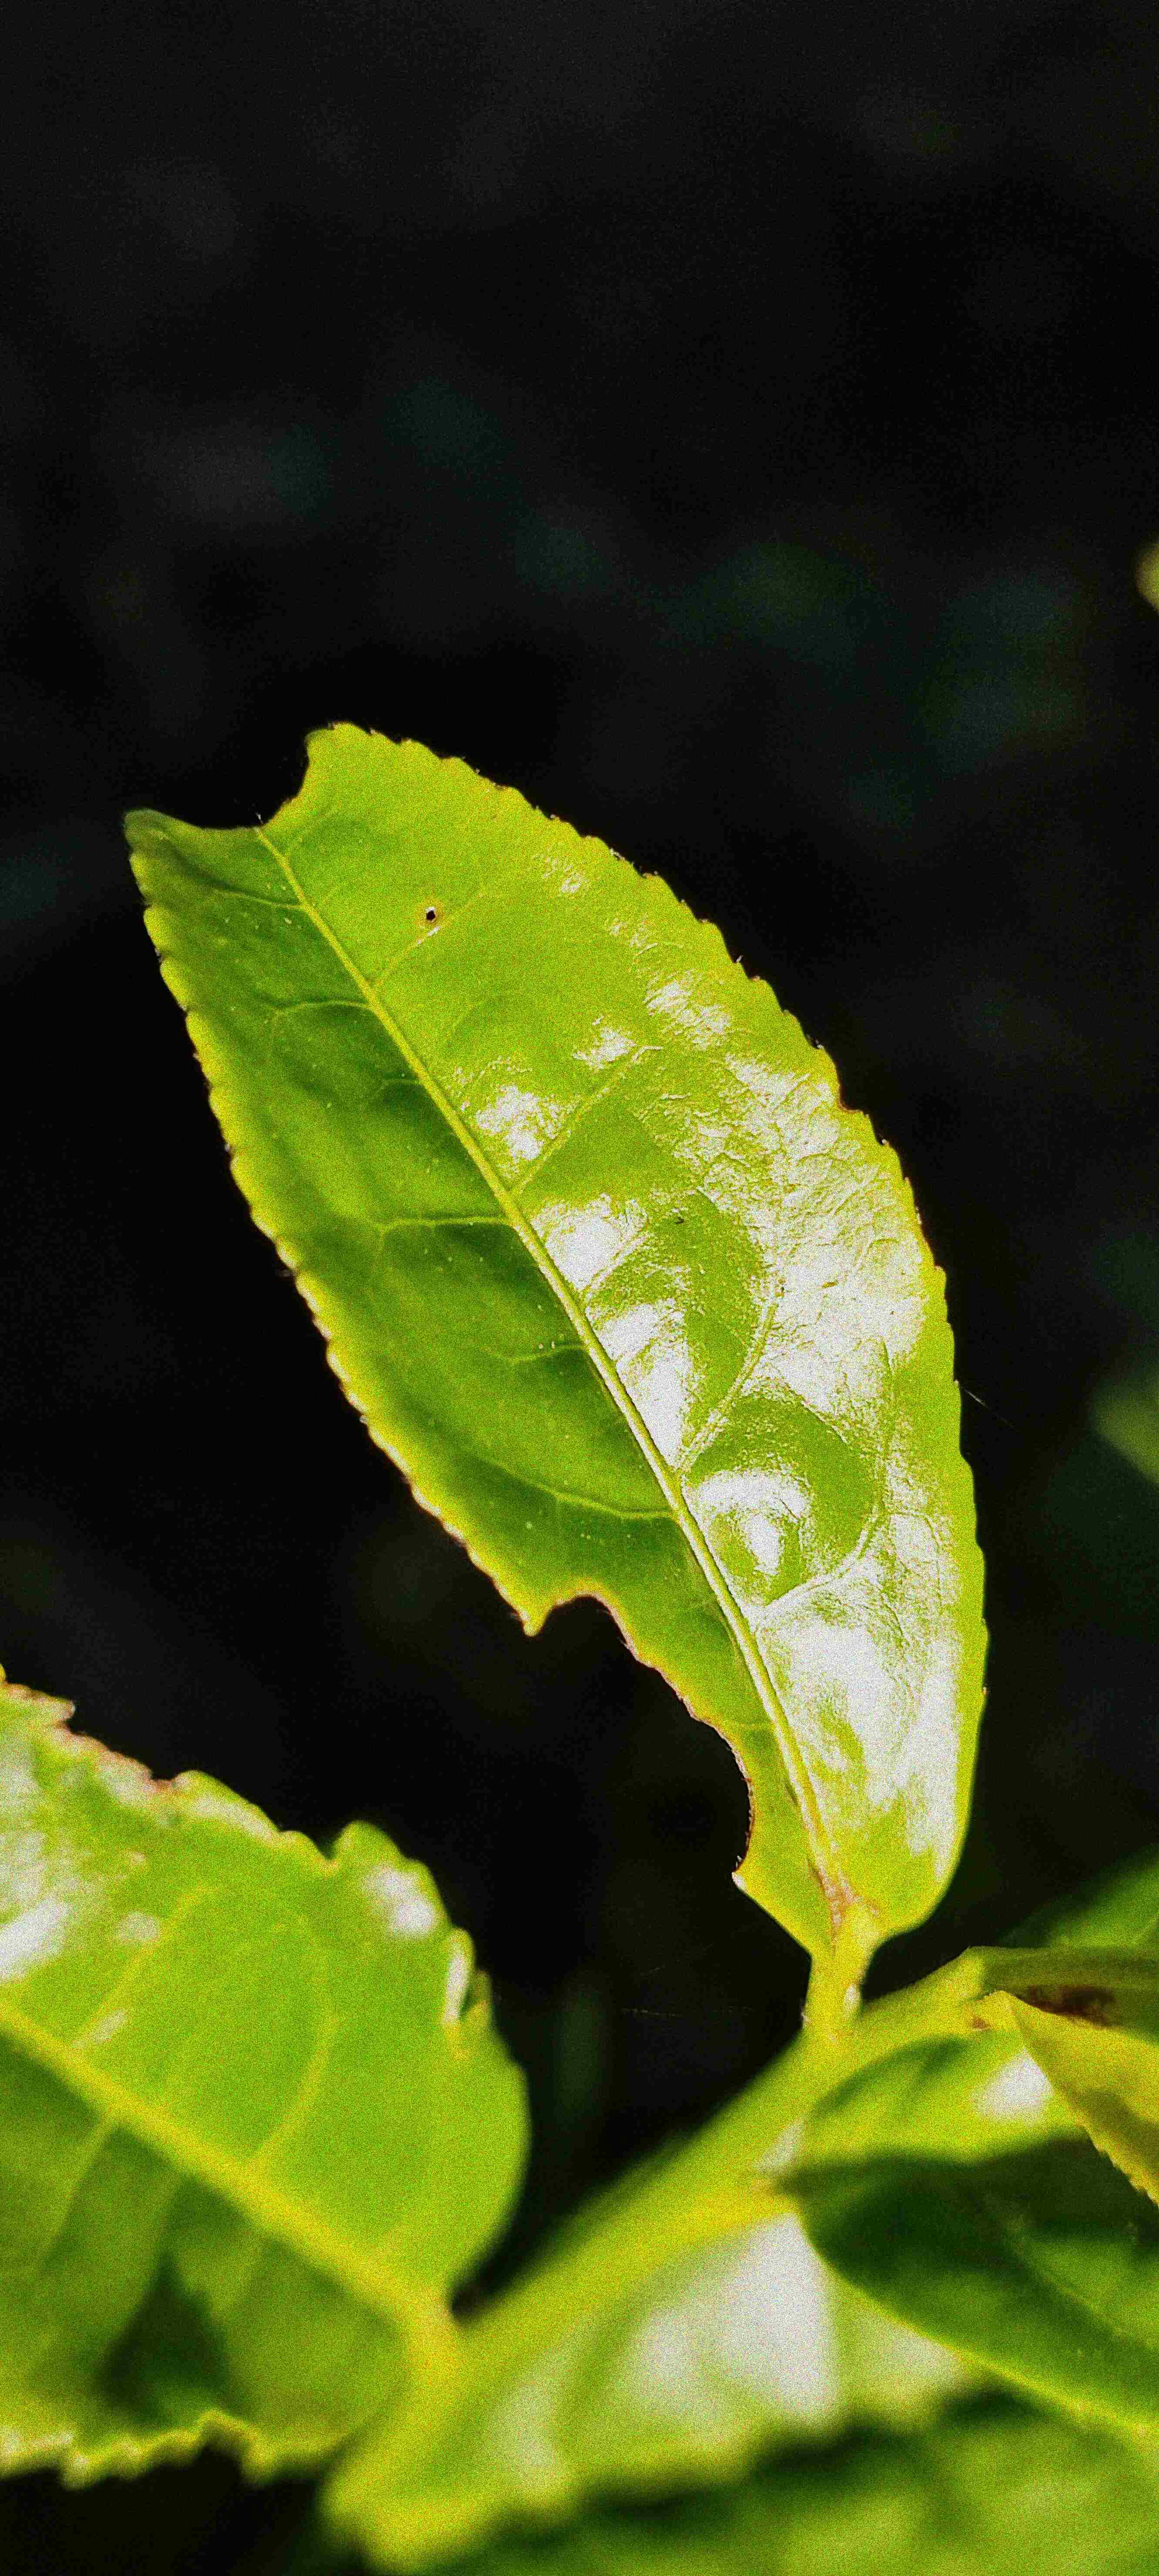chihuo_high: (128, 715, 1003, 1952)
healthy: (5, 1672, 542, 2499)
